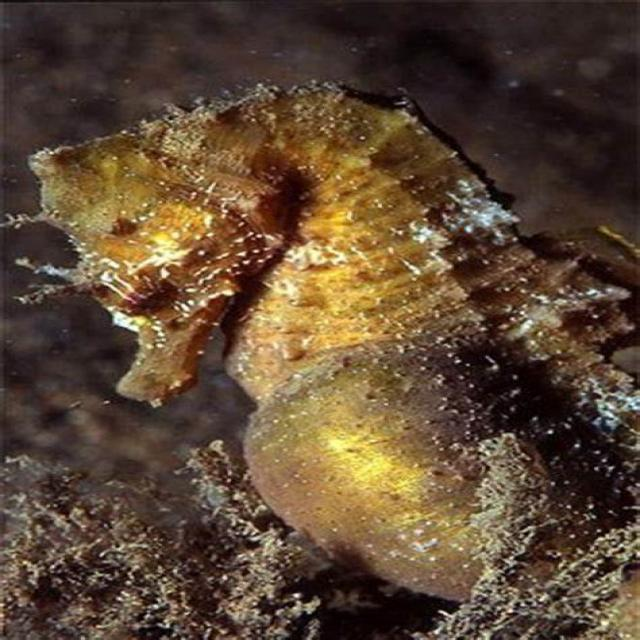Hippo: (22, 134, 302, 412)
